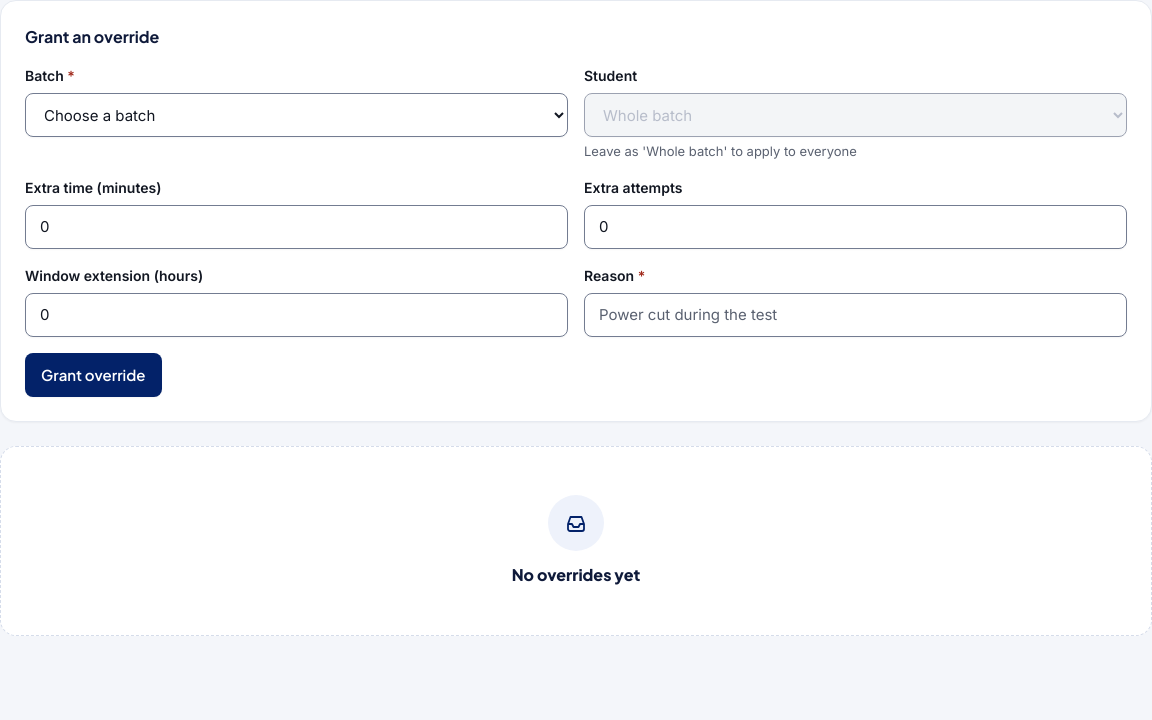
Test: ADM-42 per-student override for batch-scoped trainers › asks to assign the test first when the batch has no assignment
This screenshot has width=1152, height=720.
Select "CSE 2027 A" in the dropdown labelled "Batch *" at (296,115), box [25,93,568,137]
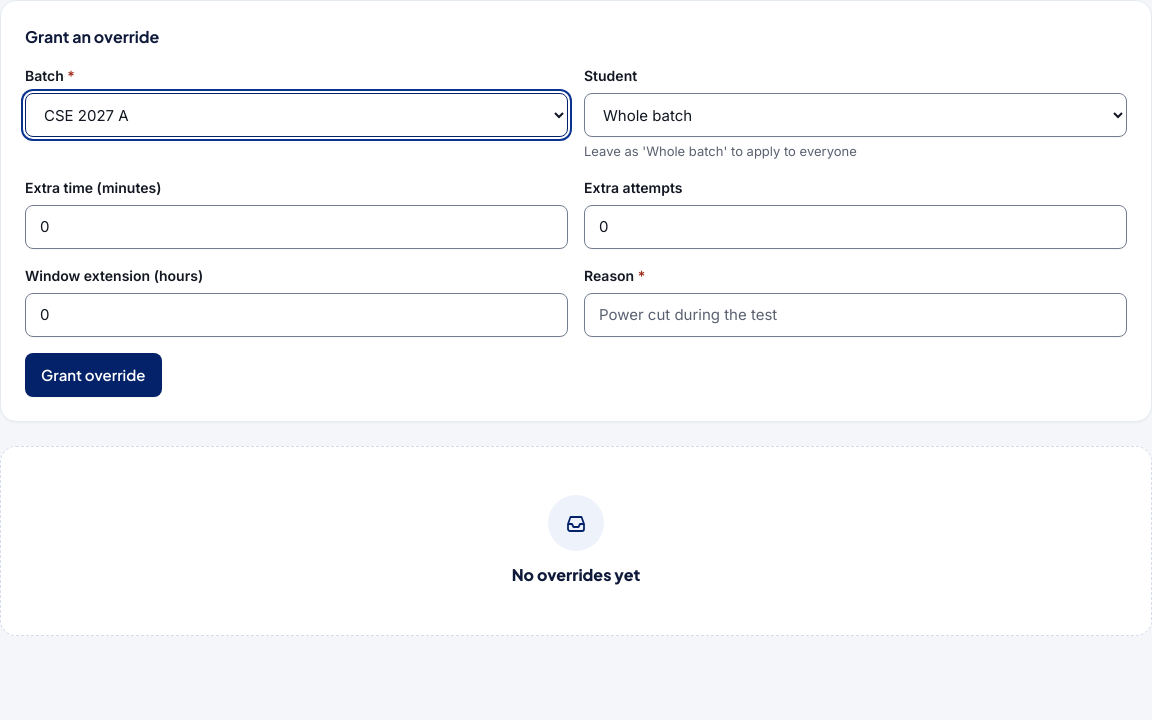
Select "Ravi Kumar" in the dropdown labelled "Student" at (856,115), box [584,93,1127,137]
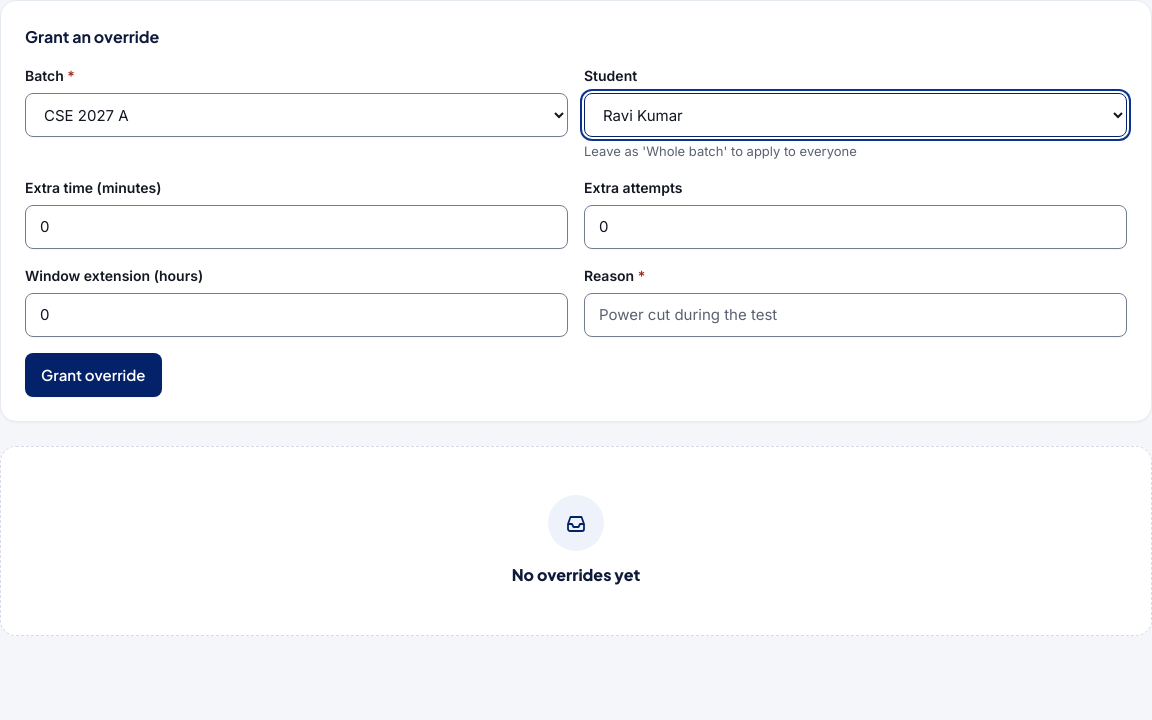
Replace the text in the number field labelled "Extra time (minutes)" with "10" at (296,227), box [25,205,568,249]
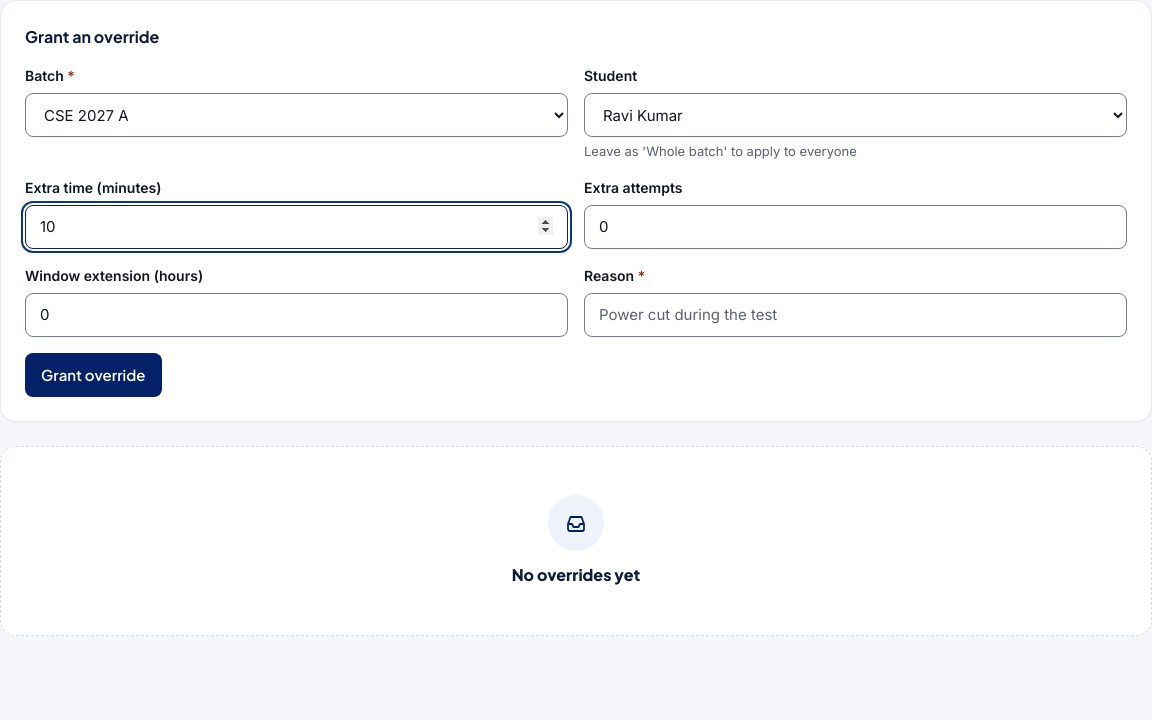
Type "Power cut" into the field labelled "Reason *" at (856,315), box [584,293,1127,337]
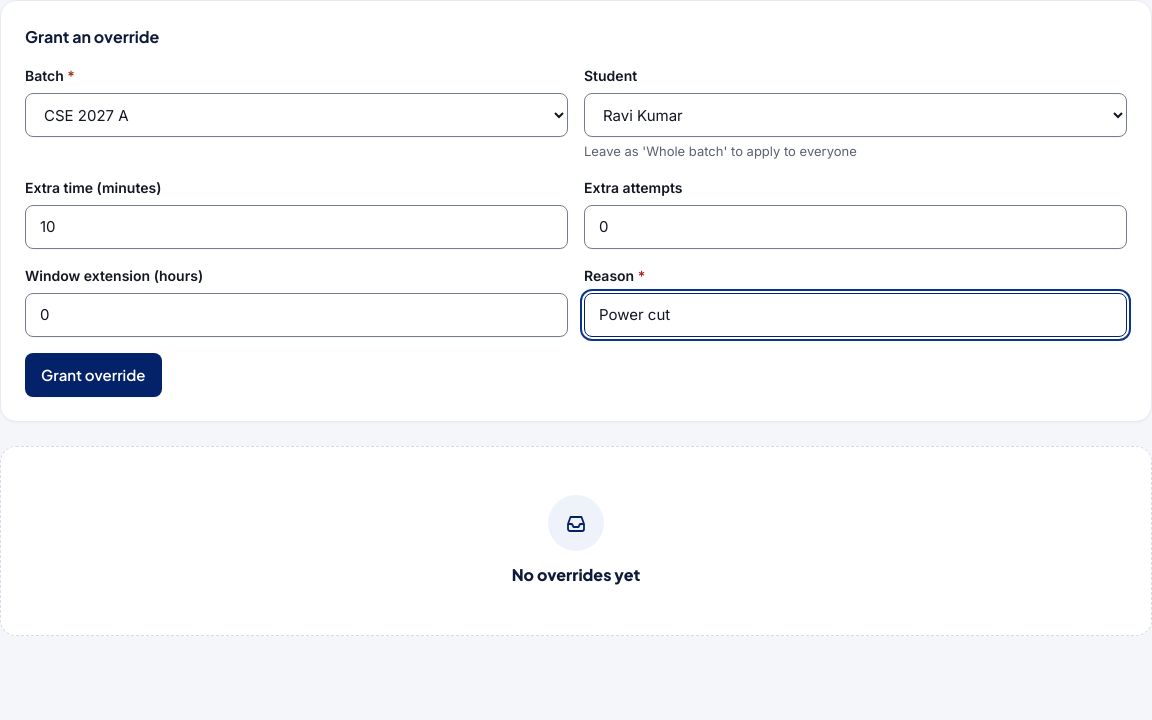
Click the button "Grant override" at (93,375), box [25,353,162,397]
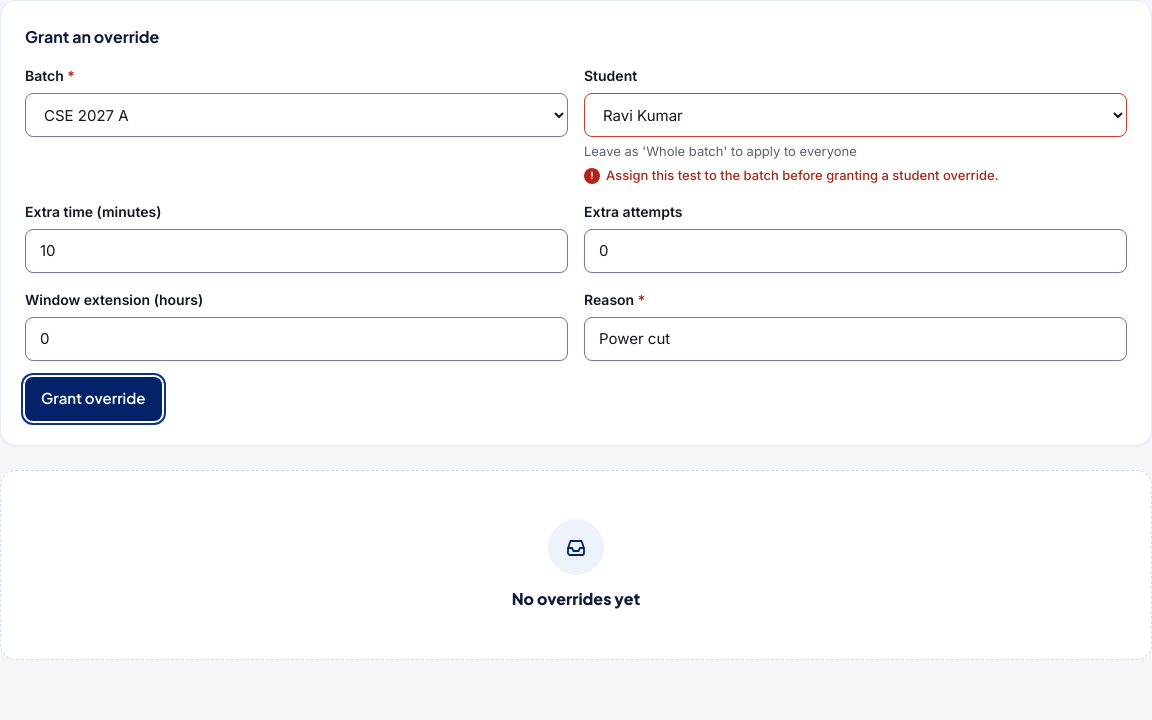
expect the text "Assign this test to the batch" is shown: met, box [606,167,999,183]
